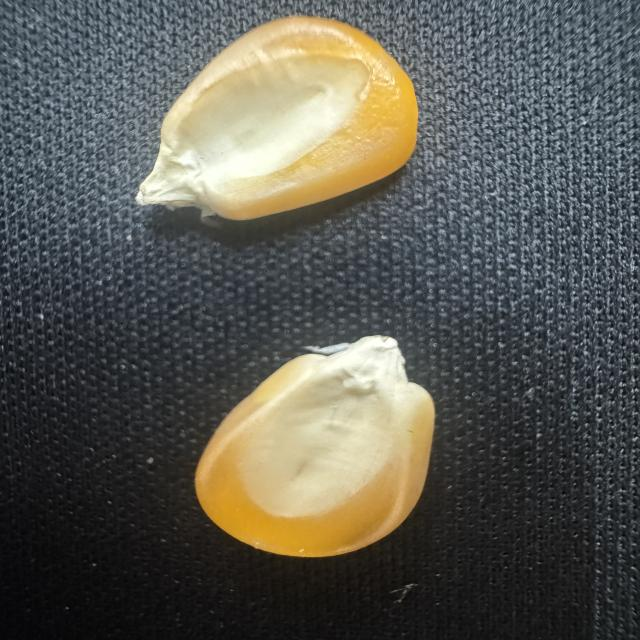Good-Seed: (134, 5, 429, 228), (182, 330, 442, 566)
